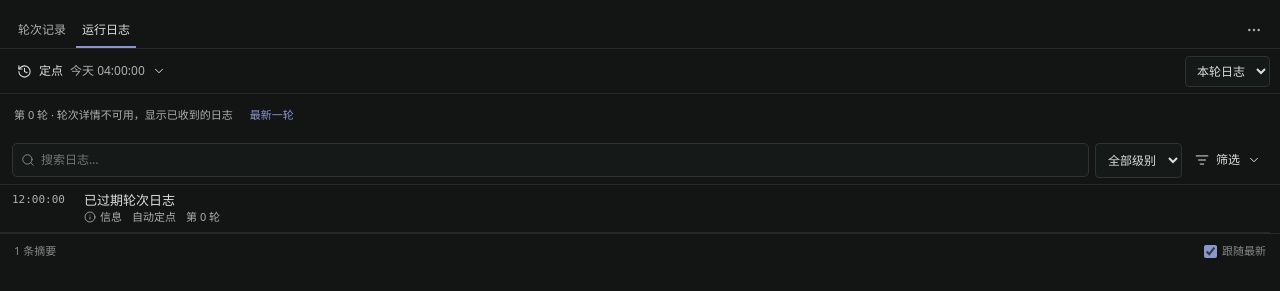
Scenario: a missing linked round never silently displays a different round
Expected: the button "已过期轮次日志" is shown, [84,190,1258,208]
Expected: the text "第 0 轮 · 轮次详情不可用，显示已收到的日志 最新一轮" is shown, [14,100,303,130]
Click the button "轮次记录": (42, 30) [12,12,72,48]
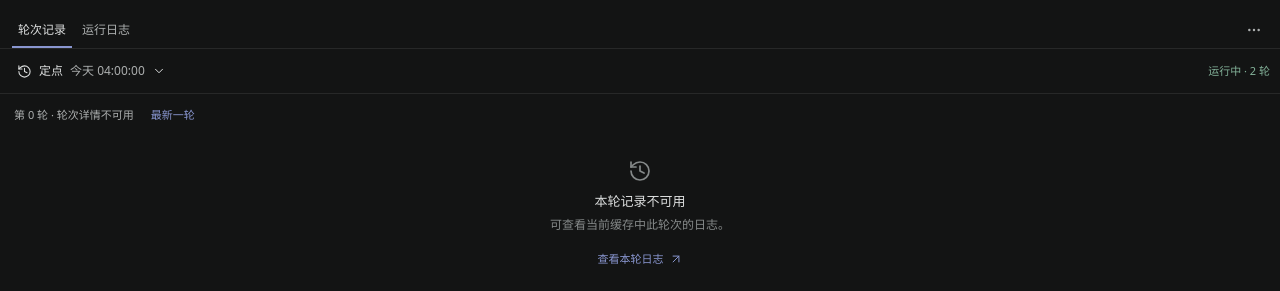
Expected: the text "本轮记录不可用" is shown, [594,192,686,211]
Click the button "查看本轮日志": (640, 259) [588,244,692,274]
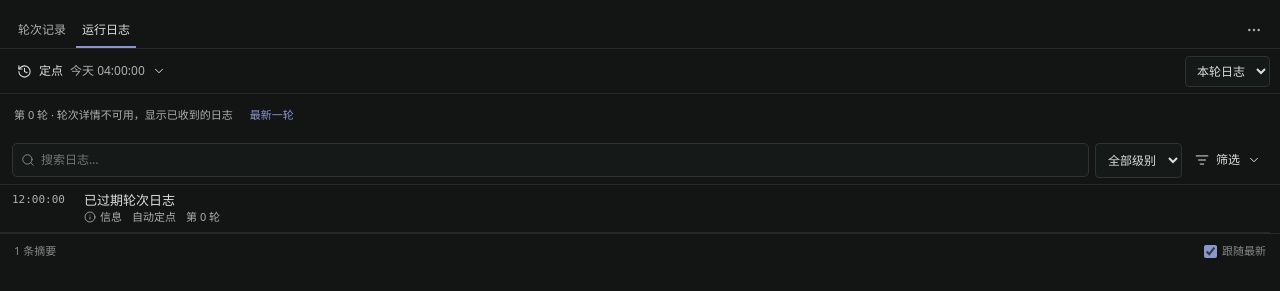
Expected: the button "已过期轮次日志" is shown, [84,190,1258,208]
